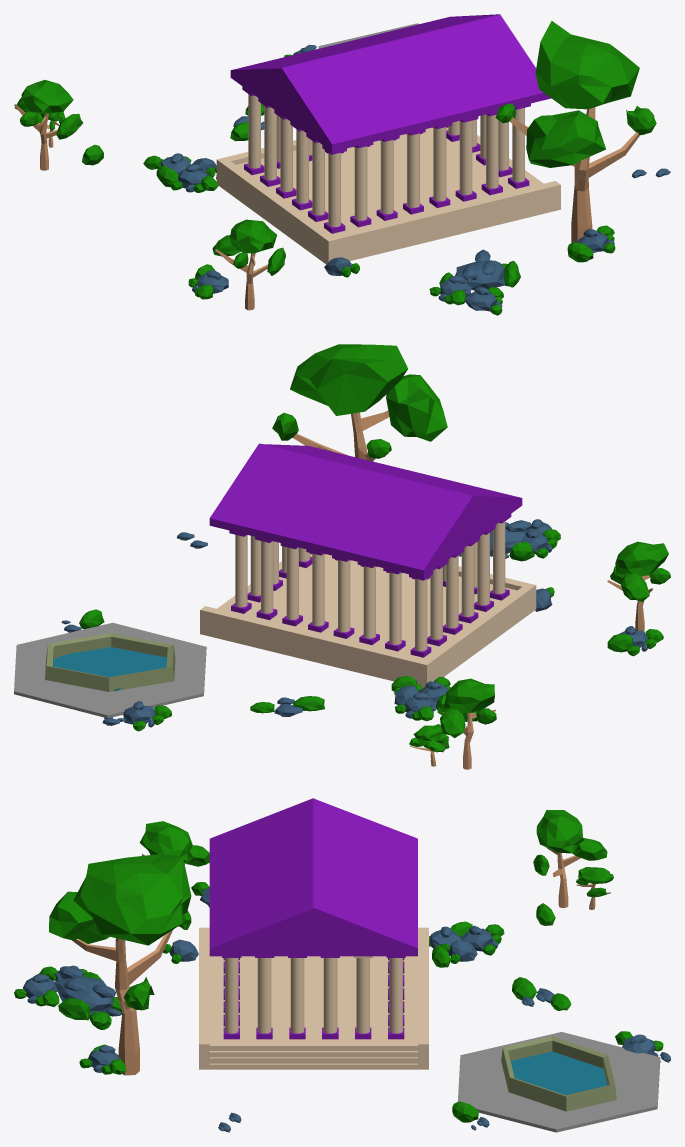
File: Temple vigne.fbx
The picture shows the model from 3 angles, top to bottom: view 1: azimuth 30°, elevation 25°; view 2: azimuth 150°, elevation 25°; view 3: azimuth 270°, elevation 25°; orthographic projection. The views are drawn at different scales.
Visible parts, largest first — view 1: Cube.063; view 2: Cube.063; view 3: Cube.063.
Boxes of the visible parts, bbox=[...] form: Cube.063: bbox=[14, 14, 670, 315]; Cube.063: bbox=[14, 344, 670, 769]; Cube.063: bbox=[14, 798, 670, 1132].
Size of the model in its own units: 12.67 by 14.25 by 5.13.
